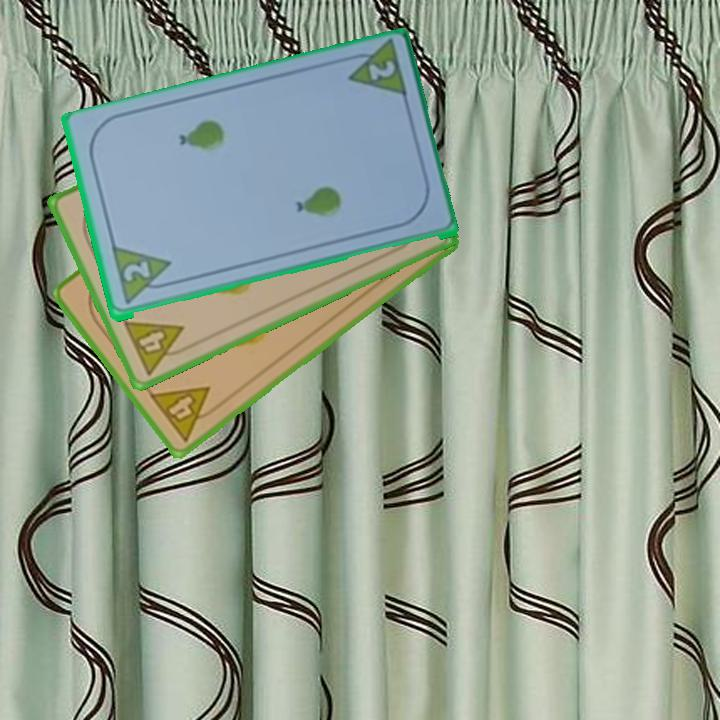2p: (119, 258, 153, 285), (364, 57, 398, 84)
4p: (145, 382, 225, 445), (119, 317, 195, 378)
